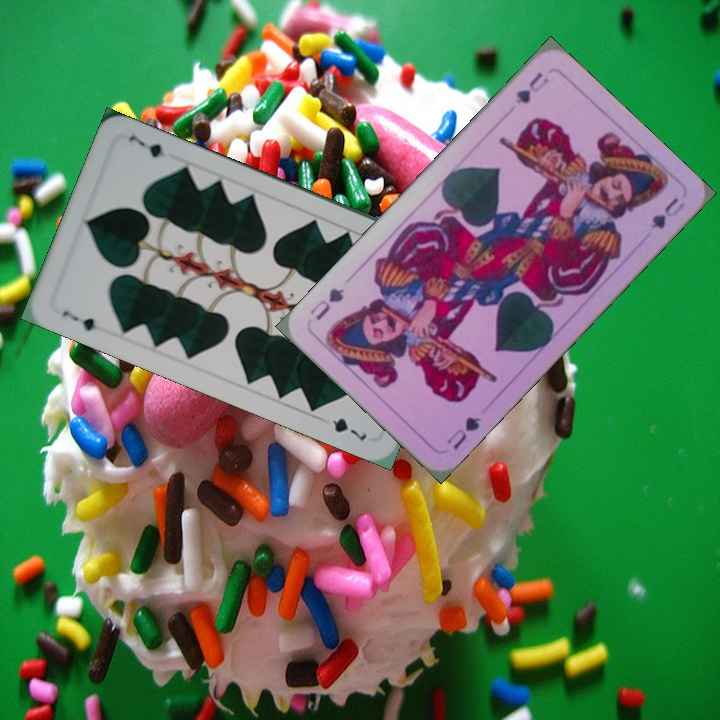G7: (58, 306, 99, 334)
GU: (442, 412, 484, 453), (510, 67, 552, 106)
